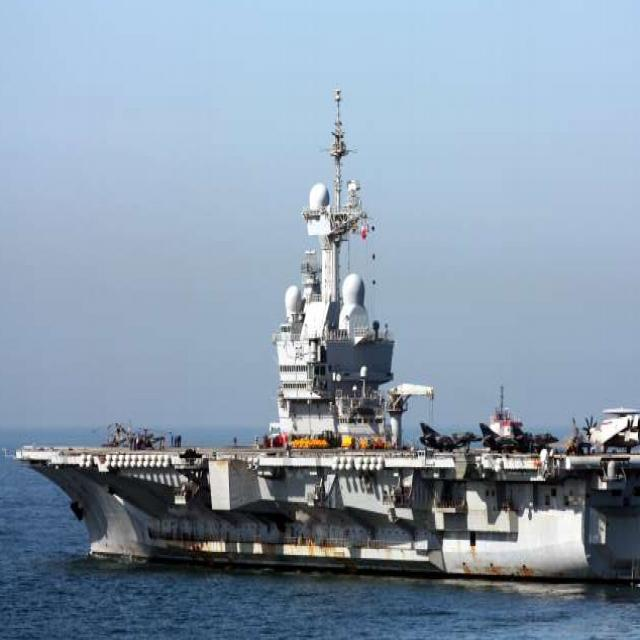Portanaves: (8, 75, 640, 600)
